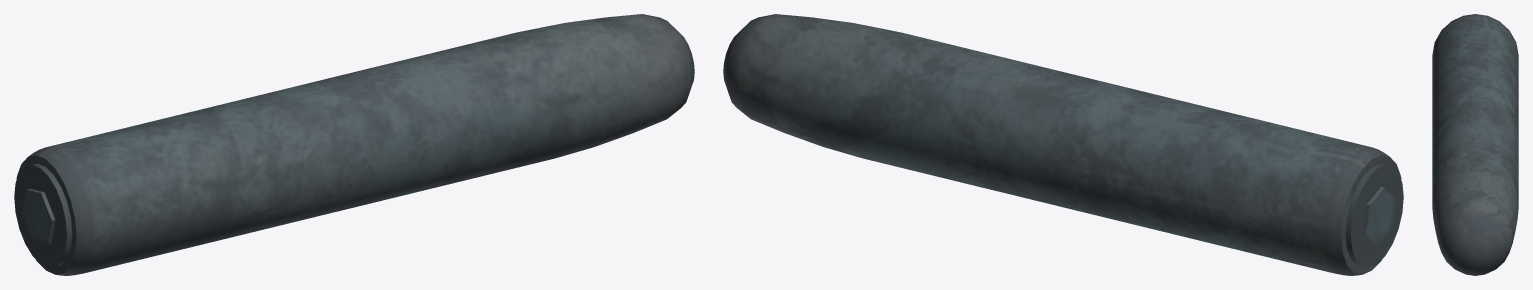
The model's file is SM_Missile_2.fbx.
3 views of the same model, side by side, from view 1: azimuth 30°, elevation 25°; view 2: azimuth 150°, elevation 25°; view 3: azimuth 270°, elevation 25° (orthographic). The views are drawn at different scales.
Visible parts, largest first — view 1: SM_Missile_2_LOD0; view 2: SM_Missile_2_LOD0; view 3: SM_Missile_2_LOD0.
Part boxes in pixels (left/top/right/bottom): SM_Missile_2_LOD0: left=14, top=14, right=694, bottom=275; SM_Missile_2_LOD0: left=723, top=14, right=1403, bottom=275; SM_Missile_2_LOD0: left=1432, top=14, right=1518, bottom=275.
Size of the model in its own units: 180 by 32 by 32.
Materials: 1 (1 with a texture image).
